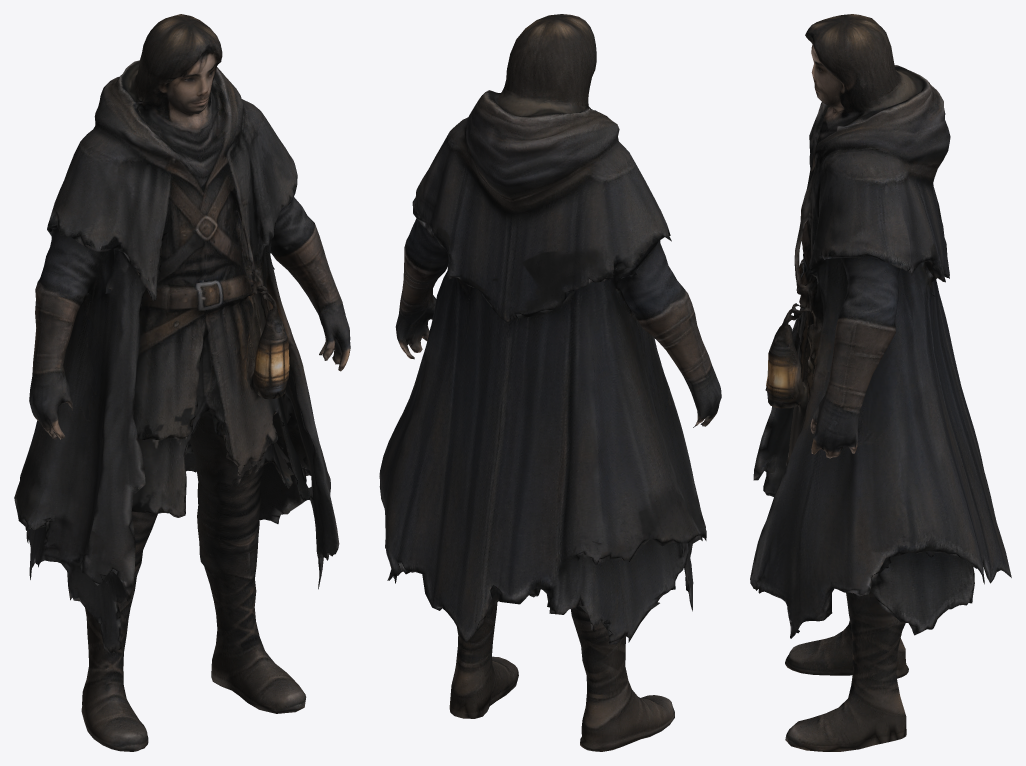
File: human-hunter-male.glb
3 views of the same model, side by side, from view 1: azimuth 30°, elevation 25°; view 2: azimuth 150°, elevation 25°; view 3: azimuth 270°, elevation 25° (orthographic).
Bounding box in the file's own units: 0.9534 × 2 × 0.6919.
1 material, 1 textured.
